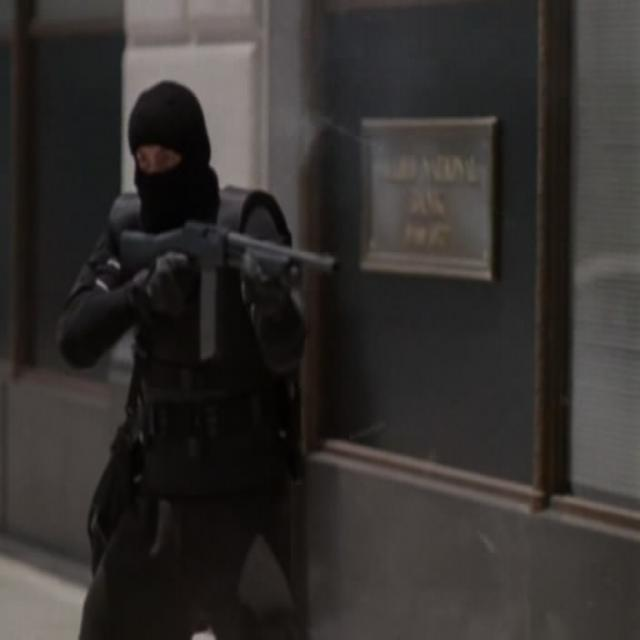gun-knife-thesis - v11 Yolov5 augmented: (115, 214, 338, 365)
